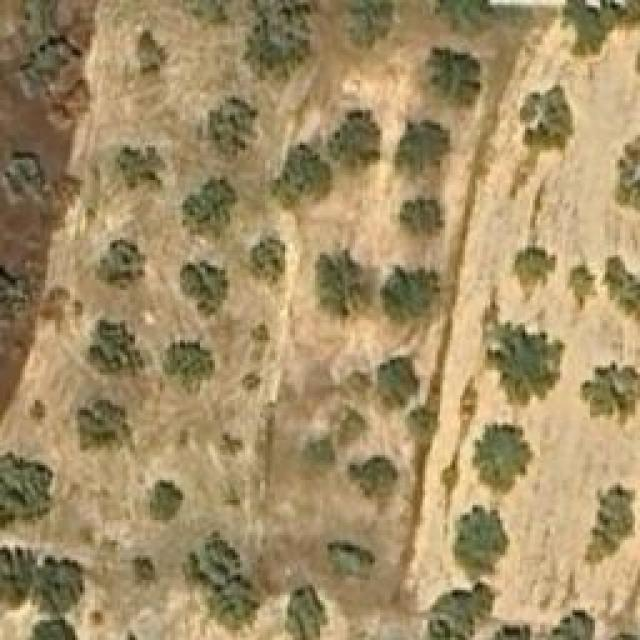Tree: (488, 323, 568, 406), (473, 420, 533, 493), (315, 248, 375, 321), (245, 15, 307, 83), (565, 0, 640, 55), (577, 359, 640, 422), (0, 452, 52, 527), (585, 485, 635, 563), (273, 143, 333, 208), (155, 340, 215, 400), (520, 85, 575, 150), (382, 265, 440, 325), (30, 555, 88, 615), (87, 320, 145, 380), (430, 585, 493, 640), (325, 110, 380, 173), (395, 120, 450, 183), (455, 508, 508, 573), (78, 385, 131, 450), (183, 178, 238, 238), (372, 350, 420, 415), (428, 47, 481, 105), (208, 575, 261, 633), (348, 455, 398, 515), (180, 260, 230, 318), (210, 98, 258, 158), (435, 0, 520, 32), (185, 535, 234, 588), (602, 252, 640, 320), (95, 240, 145, 290), (115, 147, 165, 195), (285, 585, 328, 640), (350, 0, 395, 48), (400, 195, 445, 238), (250, 230, 285, 285), (5, 158, 53, 198), (617, 135, 640, 210), (0, 273, 30, 326), (515, 247, 555, 285), (300, 435, 338, 475), (328, 543, 371, 578), (547, 610, 595, 640), (274, 0, 317, 32), (138, 30, 168, 75), (570, 262, 598, 310), (150, 483, 183, 523), (223, 430, 253, 460), (133, 558, 158, 588), (250, 323, 275, 343), (243, 370, 263, 393)
